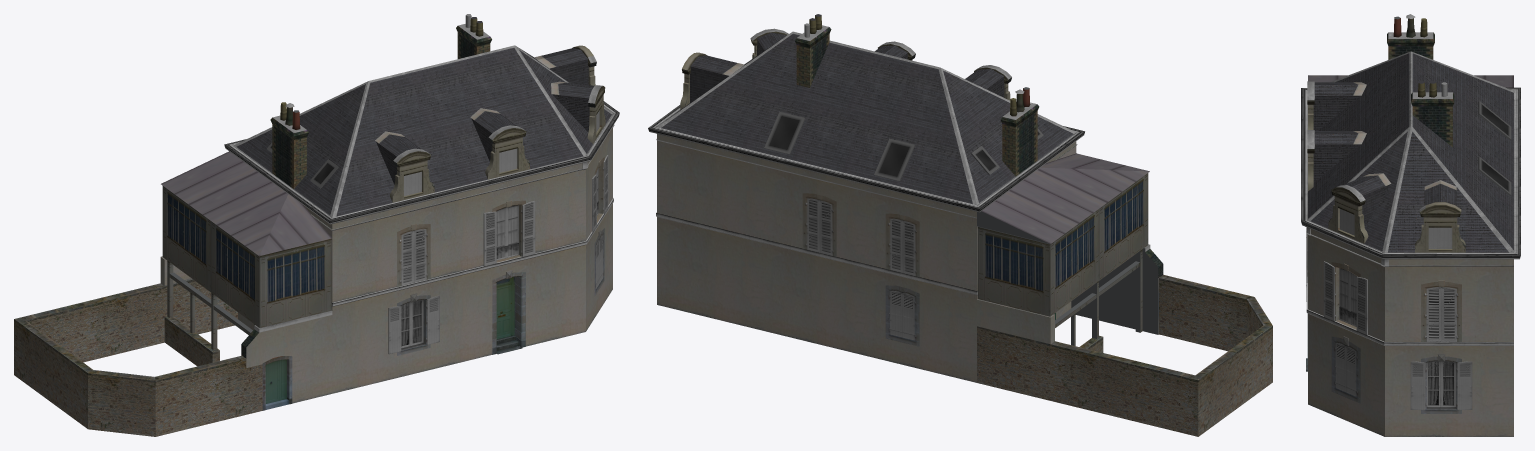
File: le_mans_corner.glb
3 renders of one model, left to right at view 1: azimuth 30°, elevation 25°; view 2: azimuth 150°, elevation 25°; view 3: azimuth 270°, elevation 25°, orthographic. The views are drawn at different scales.
Parts seen in each view (by area): view 1: building.001; view 2: building.001; view 3: building.001.
Part boxes in pixels (x1=…): building.001: x1=14, y1=14, x2=619, y2=436; building.001: x1=648, y1=14, x2=1272, y2=436; building.001: x1=1301, y1=14, x2=1520, y2=436.
Size of the model in its own units: 22.23 by 11.07 by 7.46.
Materials: 1 (1 with a texture image).
